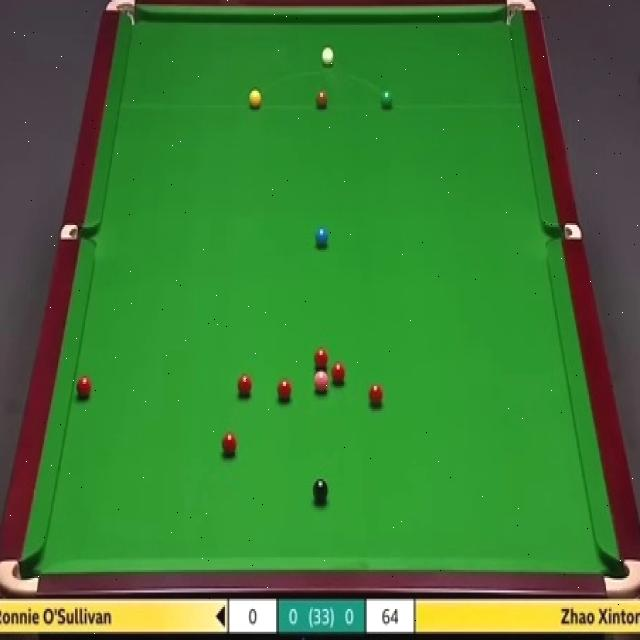black-ball: (313, 478, 330, 502)
blue-ball: (314, 225, 329, 248)
brown-ball: (315, 90, 329, 109)
green-ball: (380, 89, 393, 110)
pink-ball: (313, 370, 330, 395)
red-ball: (220, 431, 238, 456), (369, 384, 386, 409), (276, 378, 293, 402), (237, 373, 252, 398), (76, 376, 93, 398), (331, 362, 346, 386), (314, 347, 329, 369)
white-ball: (320, 45, 336, 66)
yellow-ball: (248, 87, 262, 108)
